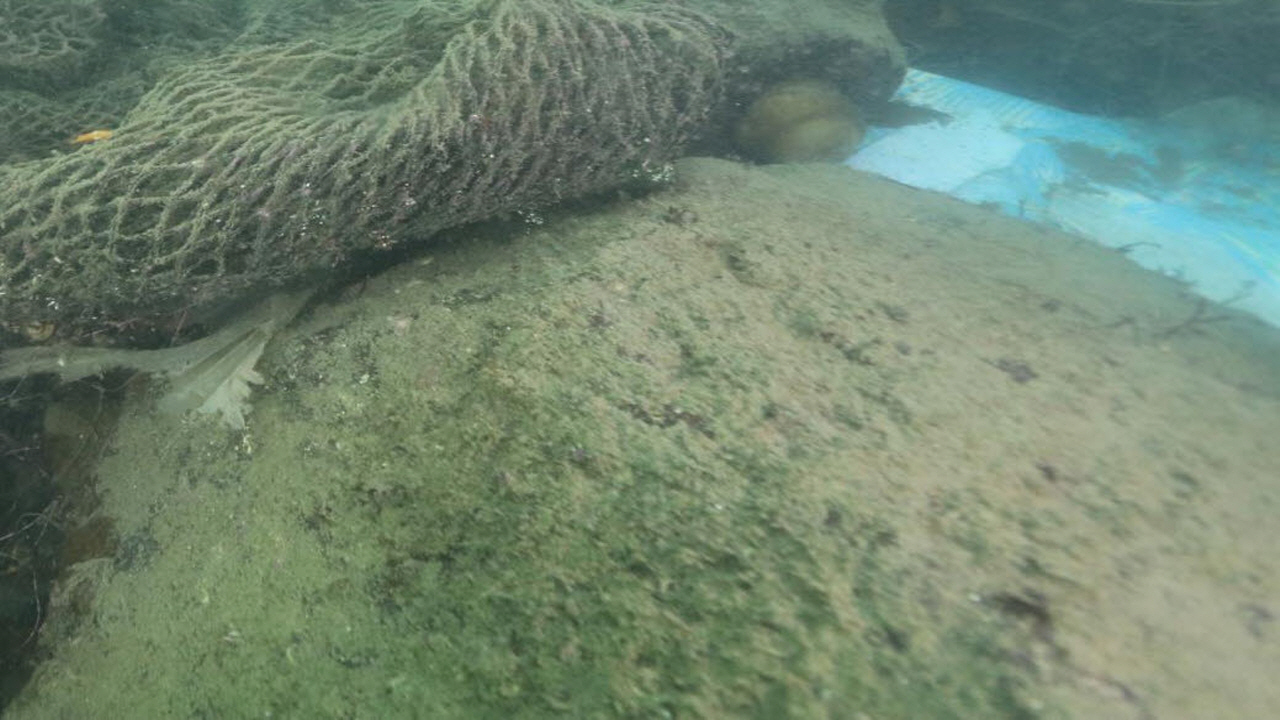fish net: (0, 0, 726, 343)
